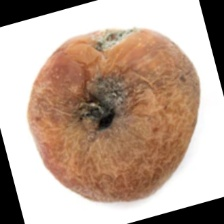apple: (14, 35, 193, 176)
